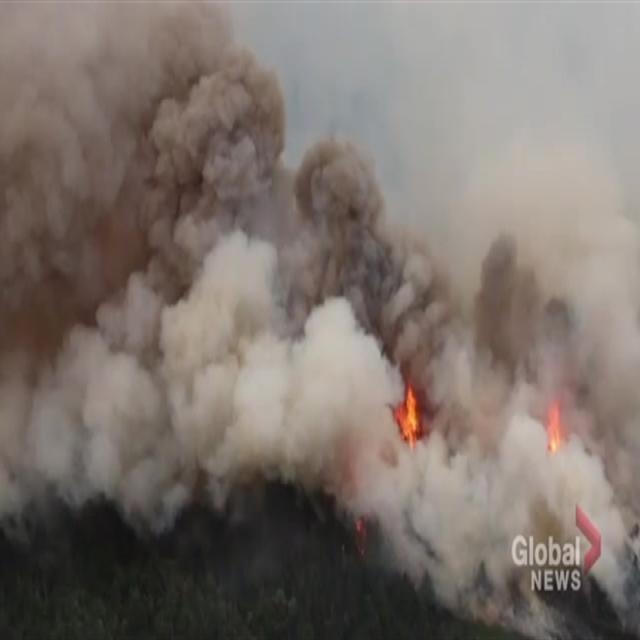smoke: (28, 79, 257, 452), (432, 444, 528, 579), (278, 313, 364, 442)
